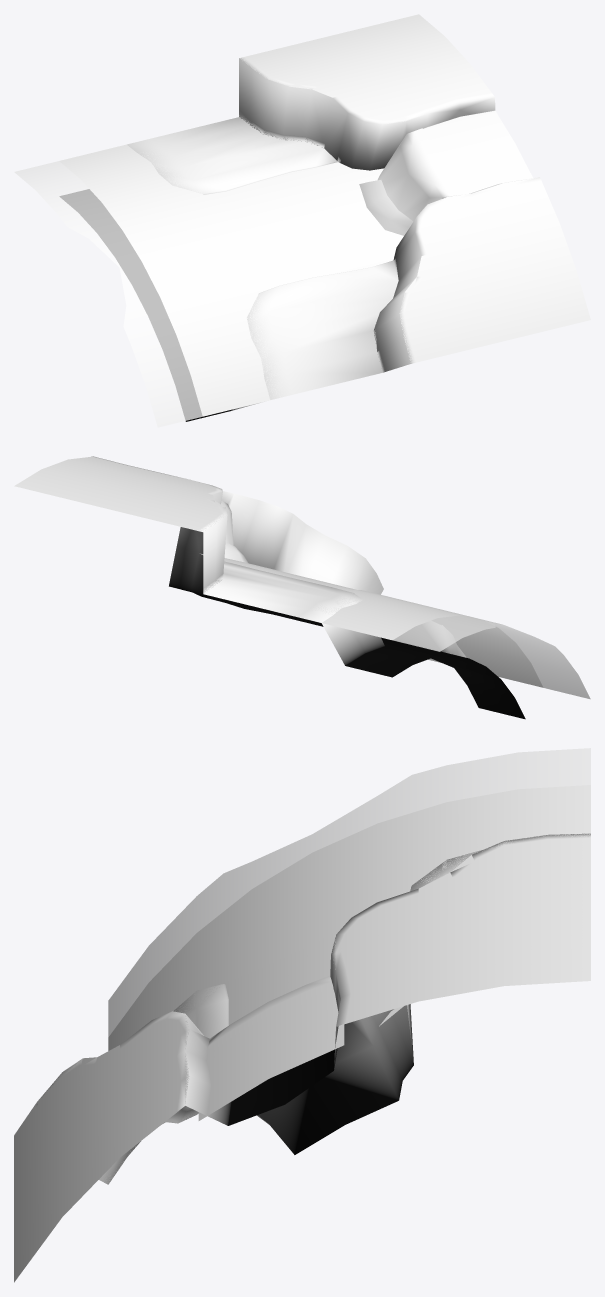
The model's file is grd_Mw_R_2.dae.
3 renders of one model, top to bottom at view 1: azimuth 30°, elevation 25°; view 2: azimuth 150°, elevation 25°; view 3: azimuth 270°, elevation 25°, orthographic. The views are drawn at different scales.
Parts seen in each view (by area): view 1: ocean_6_0, grass_5_0, beach_2_0, wave_9_0, cliff_4_0, beach_3_0, river1_7_0, fall_0_0, river_edge_8_0, kemuri_mae_1_0; view 2: cliff_4_0, grass_5_0, beach_3_0, wave_9_0, ocean_6_0, beach_2_0; view 3: grass_5_0, ocean_6_0, wave_9_0, cliff_4_0, river1_7_0, beach_2_0, river_edge_8_0, fall_0_0, beach_3_0.
Part boxes in pixels (box(x1,y1,x2,y2)): ocean_6_0: box(59, 144, 403, 416); grass_5_0: box(240, 14, 590, 362); beach_2_0: box(149, 115, 398, 394); wave_9_0: box(14, 155, 286, 427); cliff_4_0: box(239, 57, 542, 371); beach_3_0: box(60, 139, 292, 421); river1_7_0: box(423, 111, 532, 194); fall_0_0: box(377, 128, 459, 221); river_edge_8_0: box(204, 110, 532, 292); kemuri_mae_1_0: box(359, 180, 413, 235); cliff_4_0: box(91, 456, 383, 595); grass_5_0: box(14, 456, 226, 531); beach_3_0: box(194, 593, 525, 719); wave_9_0: box(335, 590, 590, 699); ocean_6_0: box(200, 553, 542, 687); beach_2_0: box(203, 561, 441, 662); grass_5_0: box(14, 834, 590, 1282); ocean_6_0: box(108, 785, 590, 1050); wave_9_0: box(108, 748, 590, 1036); cliff_4_0: box(14, 833, 590, 1183); river1_7_0: box(199, 989, 343, 1120); beach_2_0: box(99, 881, 432, 1184); river_edge_8_0: box(198, 885, 411, 1120); fall_0_0: box(207, 976, 333, 1053); beach_3_0: box(173, 850, 482, 1058).
Bounding box in the file's own units: 576 × 308 × 423.
10 materials, 1 textured.
